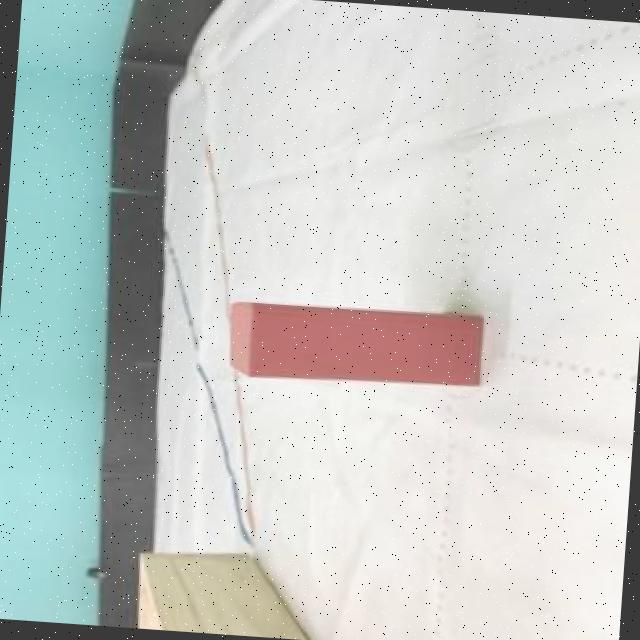redbox: (227, 299, 484, 390)
